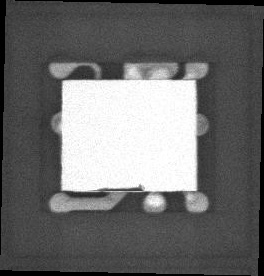DIE_BROKEN: (92, 182, 145, 193)
